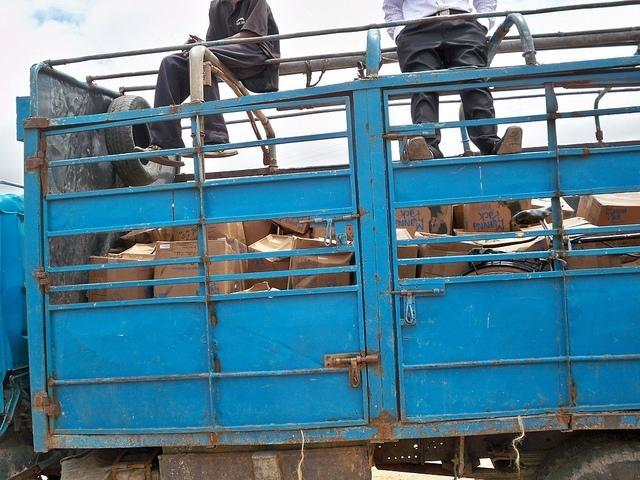truck: (0, 3, 639, 474)
